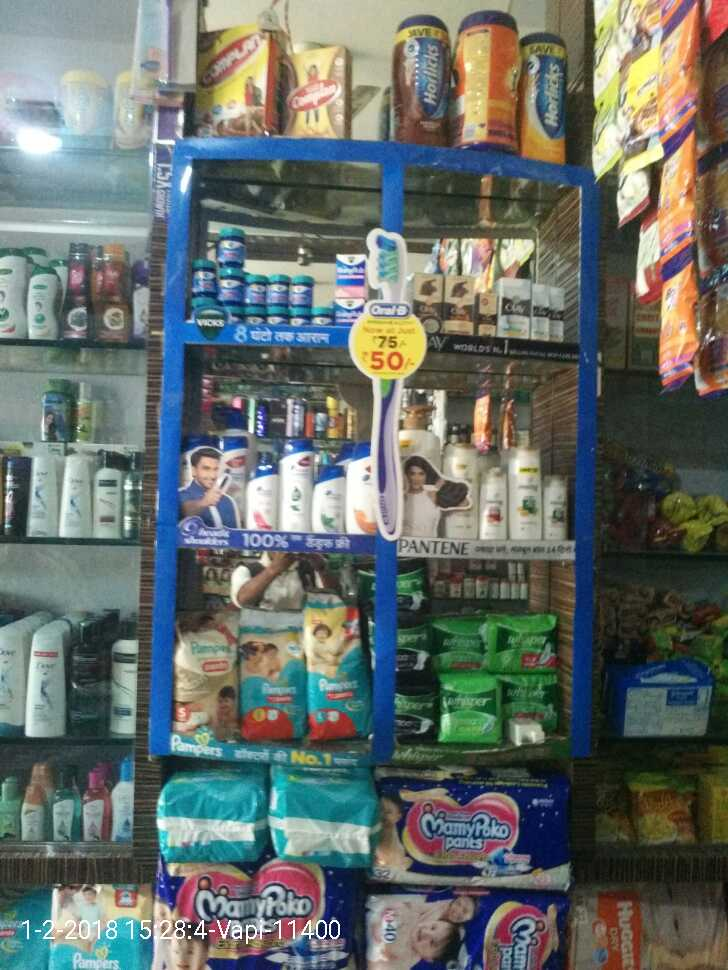beauty: (277, 437, 314, 531), (342, 443, 377, 534), (508, 444, 541, 539), (246, 458, 279, 530), (312, 464, 344, 532), (441, 273, 473, 335), (480, 471, 507, 542), (497, 280, 531, 336), (539, 476, 569, 538), (532, 285, 564, 337), (411, 268, 437, 328), (477, 289, 501, 335)
pharmacy: (308, 605, 369, 746), (237, 628, 309, 745), (174, 624, 234, 737), (487, 611, 560, 669), (500, 677, 569, 734), (439, 681, 496, 746), (436, 610, 483, 674), (209, 263, 242, 308), (336, 254, 367, 298), (213, 224, 247, 264), (284, 265, 315, 304), (242, 259, 264, 302), (186, 261, 212, 293), (265, 268, 285, 302)
